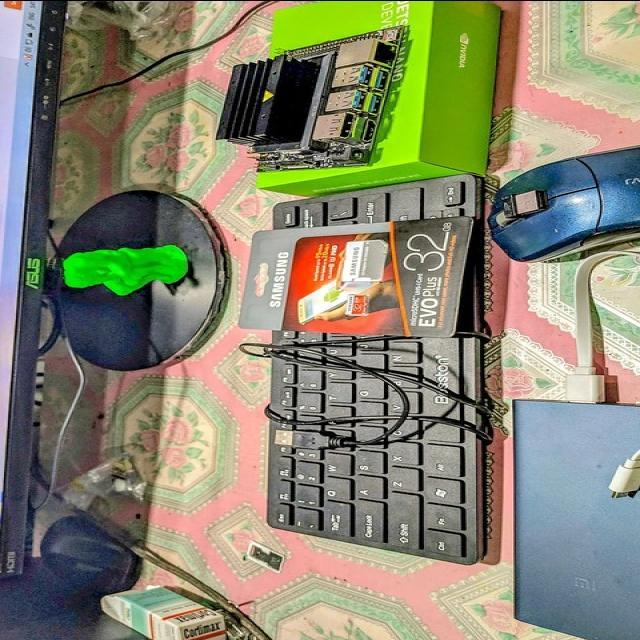Jetson Nano: (218, 25, 406, 171)
